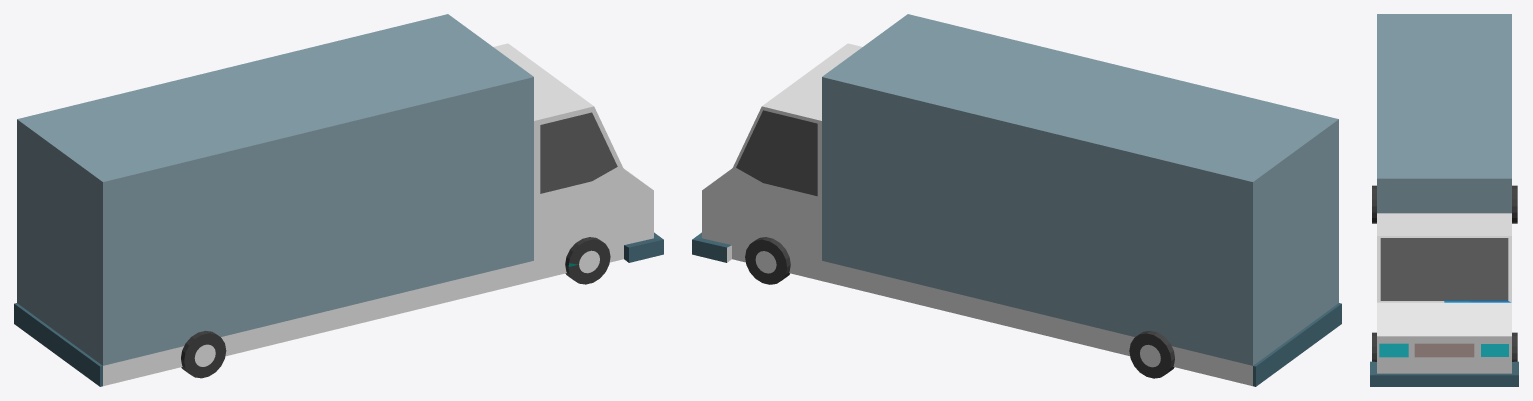
The model's file is Kamionce3x1Gray.fbx.
3 views of the same model, side by side, from view 1: azimuth 30°, elevation 25°; view 2: azimuth 150°, elevation 25°; view 3: azimuth 270°, elevation 25° (orthographic). The views are drawn at different scales.
Parts seen in each view (by area): view 1: Car_08_4; view 2: Car_08_4; view 3: Car_08_4.
Boxes of the visible parts, x1,y1,x2,y2 form: Car_08_4: [14, 14, 663, 386]; Car_08_4: [692, 14, 1341, 386]; Car_08_4: [1370, 14, 1518, 386].
Bounding box in the file's own units: 2.98 × 1.1 × 0.8755.
1 material, 1 textured.
